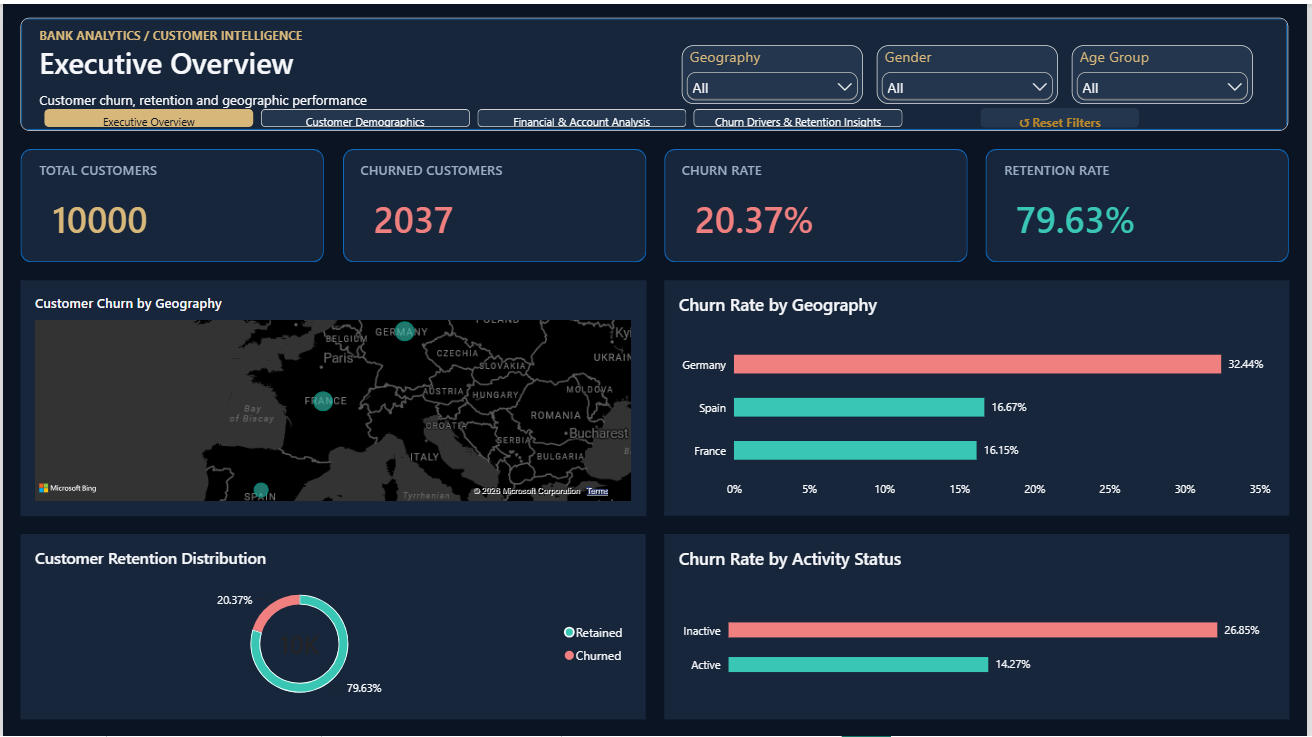

This screenshot's page, from the dashboard's own definition file:
{"tool":"powerbi","page":{"name":"Executive Overview","canvas":[1440,810],"ordinal":0},"visuals":[{"type":"shape","box":[20,15,1400,125],"z":0},{"type":"textbox","box":[40,43,550,45],"z":1000},{"type":"textbox","box":[40,95,650,30],"z":2000},{"type":"textbox","box":[40,25,650,20],"z":3000},{"type":"shape","box":[20,160,335,125],"z":4000},{"type":"textbox","box":[40,173,240,25],"z":5000},{"type":"cardVisual","fields":{"Data":["_Measures.Total Customers"]},"box":[38,204,280,65],"z":6000},{"type":"shape","box":[375.5,160,335,125],"z":7000},{"type":"textbox","box":[395.5,173,240,25],"z":8000},{"type":"cardVisual","fields":{"Data":["_Measures.Churned Customers"]},"box":[393.5,204,280,65],"z":9000},{"type":"shape","box":[730,160,335,125],"z":10000},{"type":"textbox","box":[750,173,240,25],"z":11000},{"type":"cardVisual","fields":{"Data":["_Measures.Churn Rate"]},"box":[748,204,280,65],"z":12000},{"type":"shape","box":[1085,160,335,125],"z":13000},{"type":"textbox","box":[1105,173,240,25],"z":14000},{"type":"cardVisual","fields":{"Data":["_Measures.Retention Rate"]},"box":[1103,204,280,65],"z":15000},{"type":"map","title":"Customer Churn by Geography","fields":{"Category":["Bank_Customers.Geography"],"Size":["_Measures.Churned Customers"]},"box":[20,305,690,260],"z":16000},{"type":"clusteredBarChart","title":"Churn Rate by Geography","fields":{"Category":["Bank_Customers.Geography"],"Y":["_Measures.Churn Rate"]},"box":[730,305,690,260],"z":17000},{"type":"donutChart","title":"Customer Retention Distribution","fields":{"Category":["Bank_Customers.Churn Status"],"Y":["_Measures.Total Customers"]},"box":[20,585,690,205],"z":18000},{"type":"clusteredBarChart","title":"Churn Rate by Activity Status","fields":{"Category":["Bank_Customers.Activity Status"],"Y":["_Measures.Churn Rate"]},"box":[730,585,690,205],"z":19000},{"type":"slicer","title":"Geography","fields":{"Values":["Bank_Customers.Geography"]},"box":[750,45,200,65],"z":20000},{"type":"slicer","title":"Geography","fields":{"Values":["Bank_Customers.Gender"]},"box":[965,45,200,65.1],"z":21000},{"type":"slicer","title":"Geography","fields":{"Values":["Bank_Customers.Age Group"]},"box":[1180,45,200,65.1],"z":22000},{"type":"actionButton","box":[1080,115,175,22],"z":23000},{"type":"pageNavigator","title":"Executive","box":[45,116,950,20],"z":23001}]}

Visuals, with their boxes in screenshot pixels (x1, y1, x2, y2), scaled from the page's 1440x810 canvas onto the 1312x737 screenshot:
shape: (18,14,1294,127)
textbox: (36,39,538,80)
textbox: (36,86,629,114)
textbox: (36,23,629,41)
shape: (18,146,323,259)
textbox: (36,157,255,180)
cardVisual - _Measures.Total Customers: (35,186,290,245)
shape: (342,146,647,259)
textbox: (360,157,579,180)
cardVisual - _Measures.Churned Customers: (359,186,614,245)
shape: (665,146,970,259)
textbox: (683,157,902,180)
cardVisual - _Measures.Churn Rate: (682,186,937,245)
shape: (989,146,1294,259)
textbox: (1007,157,1225,180)
cardVisual - _Measures.Retention Rate: (1005,186,1260,245)
"Customer Churn by Geography" map: (18,278,647,514)
"Churn Rate by Geography" clusteredBarChart: (665,278,1294,514)
"Customer Retention Distribution" donutChart: (18,532,647,719)
"Churn Rate by Activity Status" clusteredBarChart: (665,532,1294,719)
"Geography" slicer: (683,41,866,100)
"Geography" slicer: (879,41,1061,100)
"Geography" slicer: (1075,41,1257,100)
actionButton: (984,105,1143,125)
"Executive" pageNavigator: (41,106,907,124)
